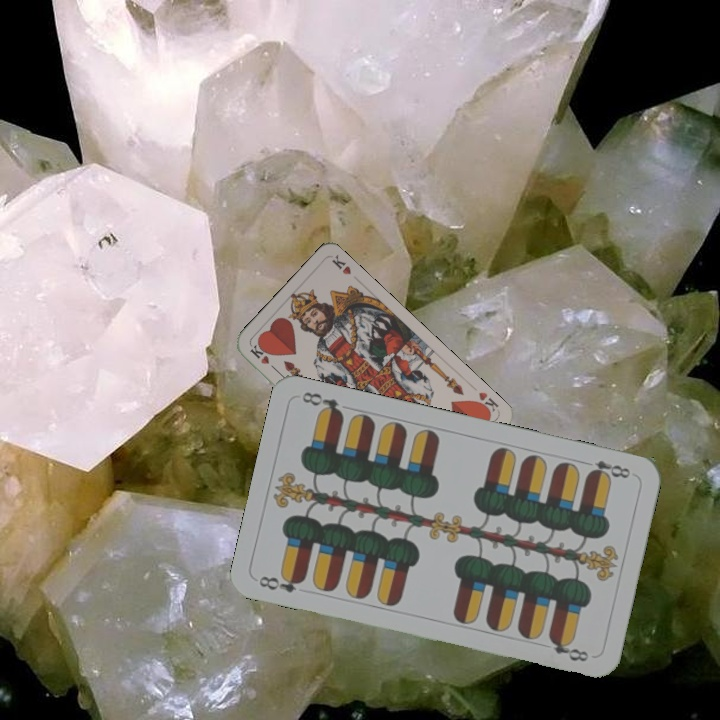E8: (578, 456, 633, 483), (254, 569, 307, 596)
HK: (246, 340, 280, 374), (471, 388, 501, 418)
